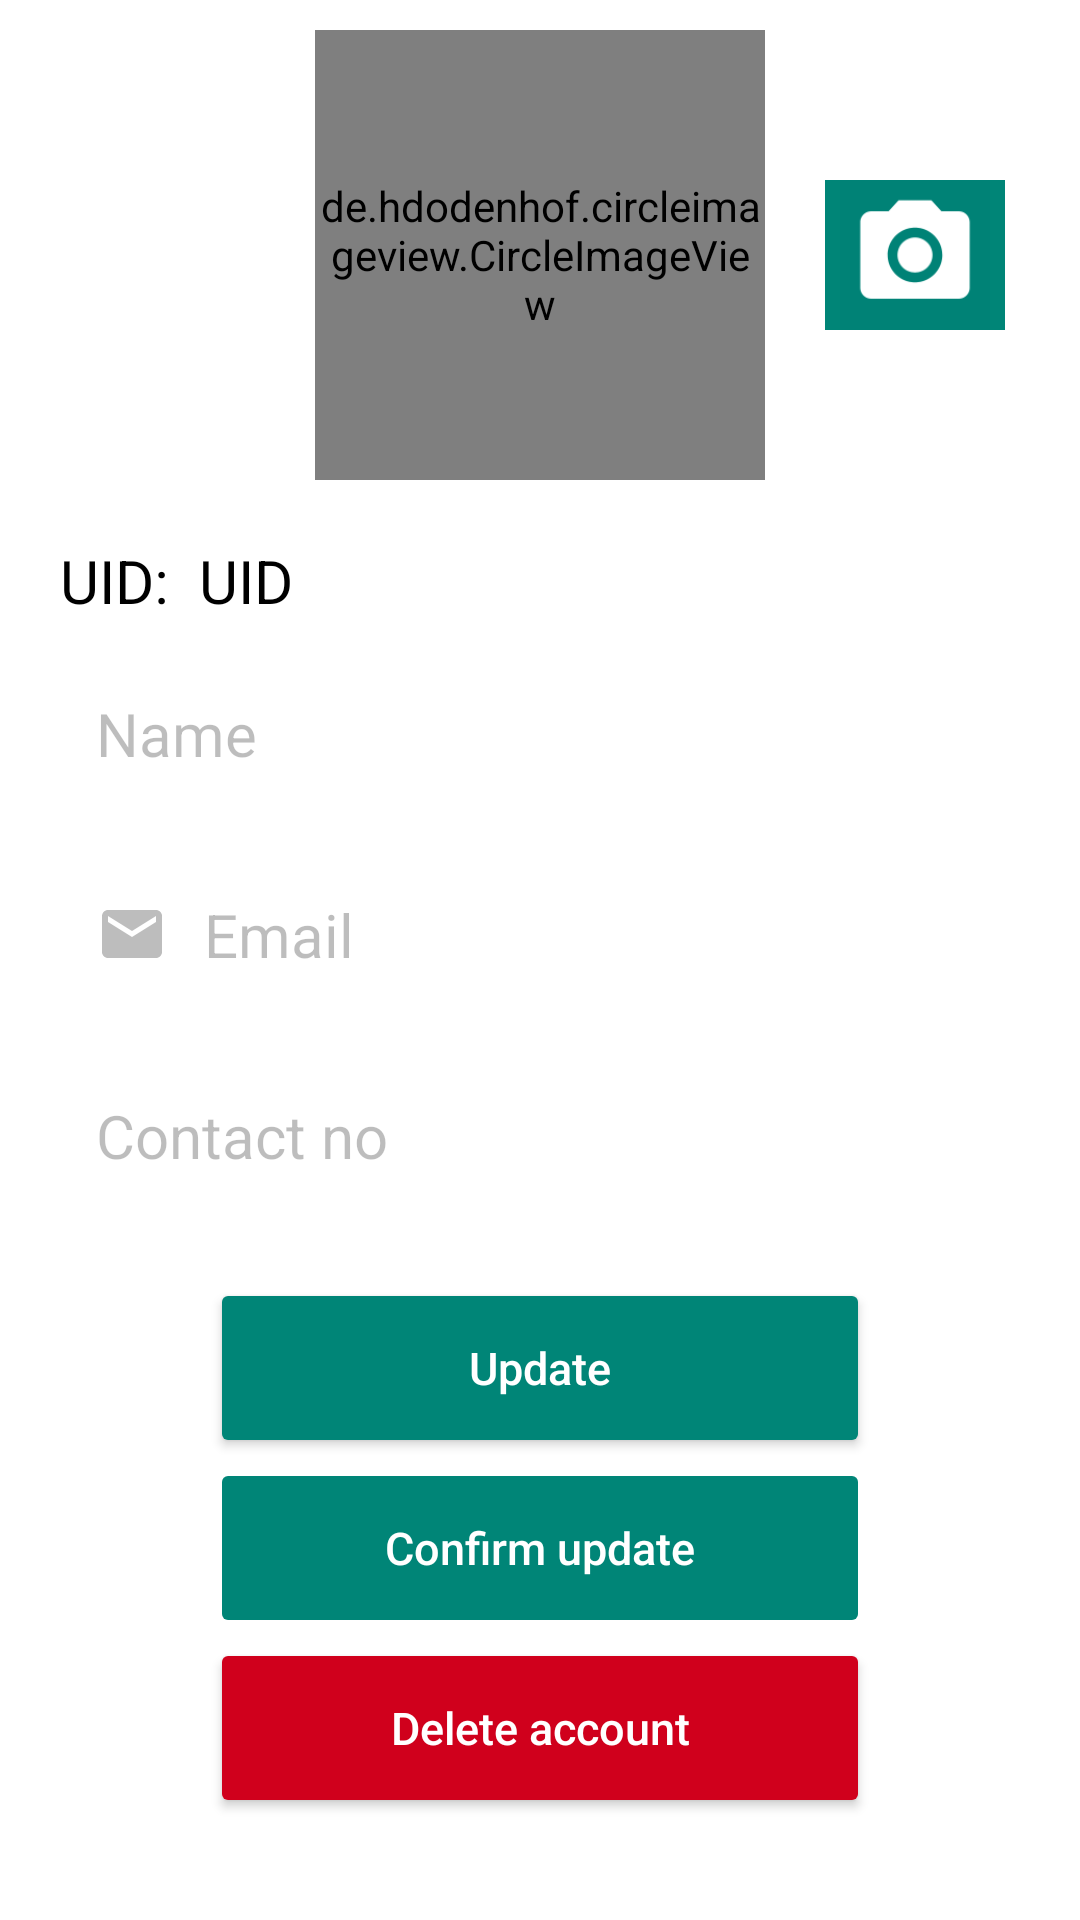

Named icons in this screenshot (1080*1920) and their bounding boxes, bbox(x1, y1, x2, y2):
camera: bbox(825, 180, 1005, 330)
